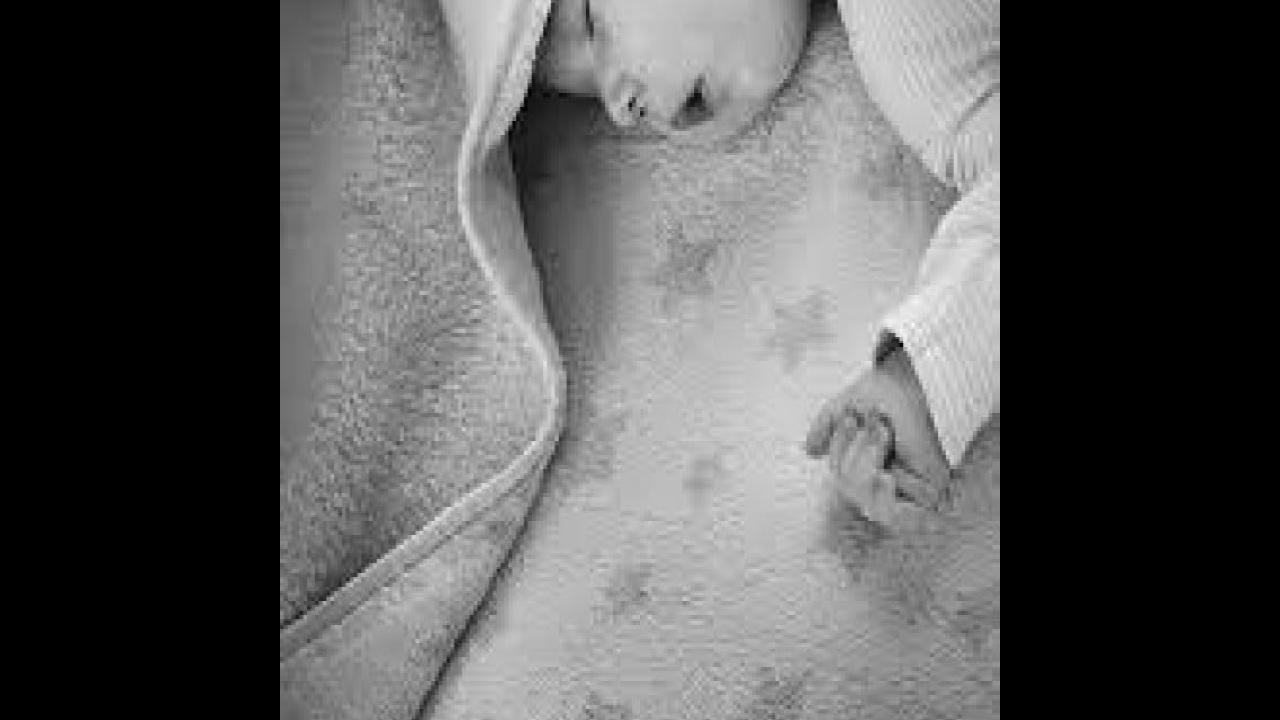hand: (801, 332, 956, 538)
